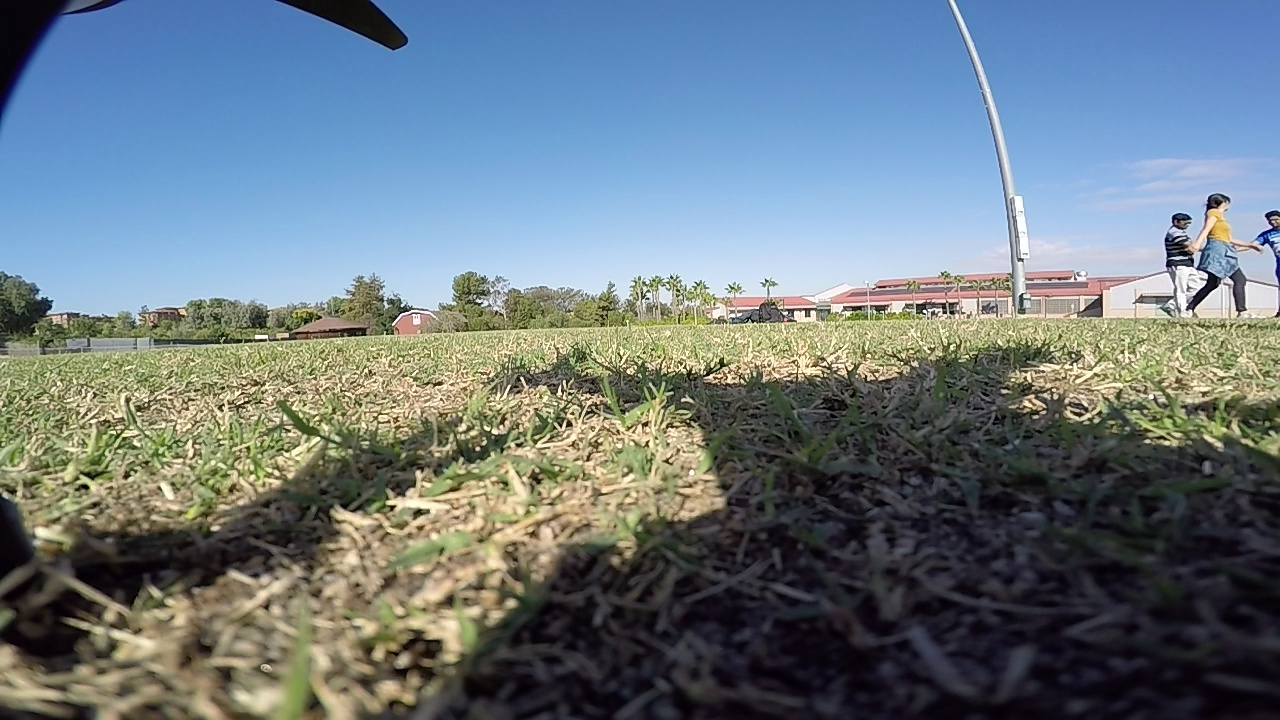person: (1183, 185, 1250, 311), (1164, 202, 1204, 302), (1249, 200, 1279, 310)
